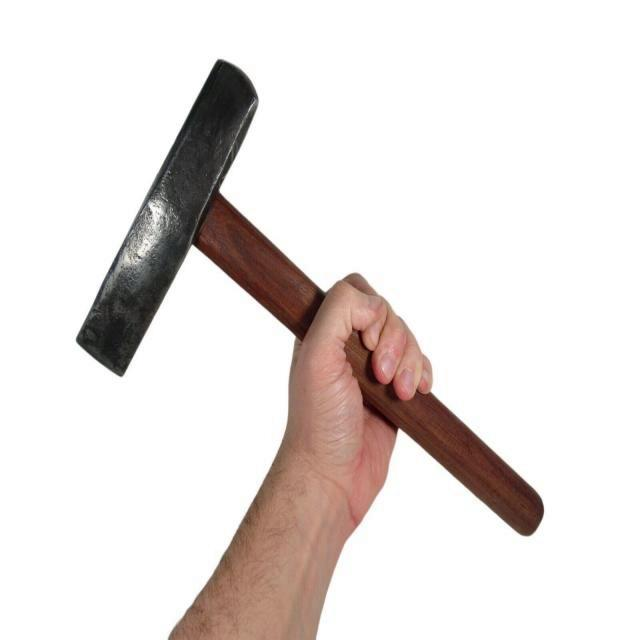hammer: (71, 45, 546, 542)
